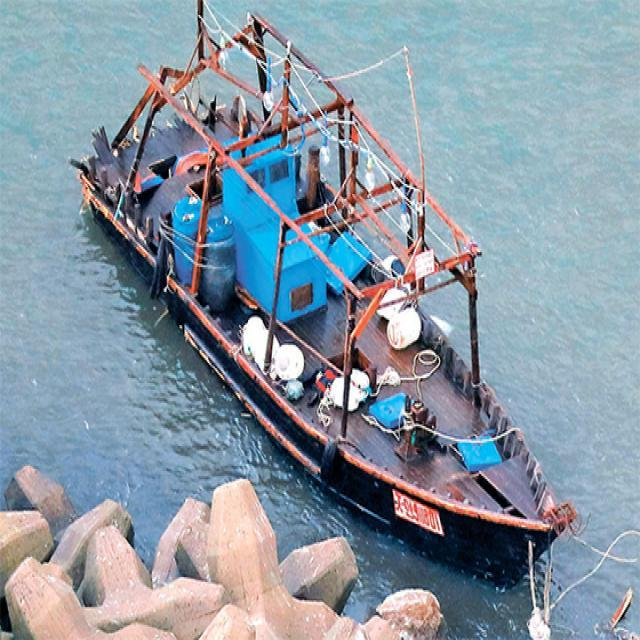Ship: (68, 1, 581, 601)
